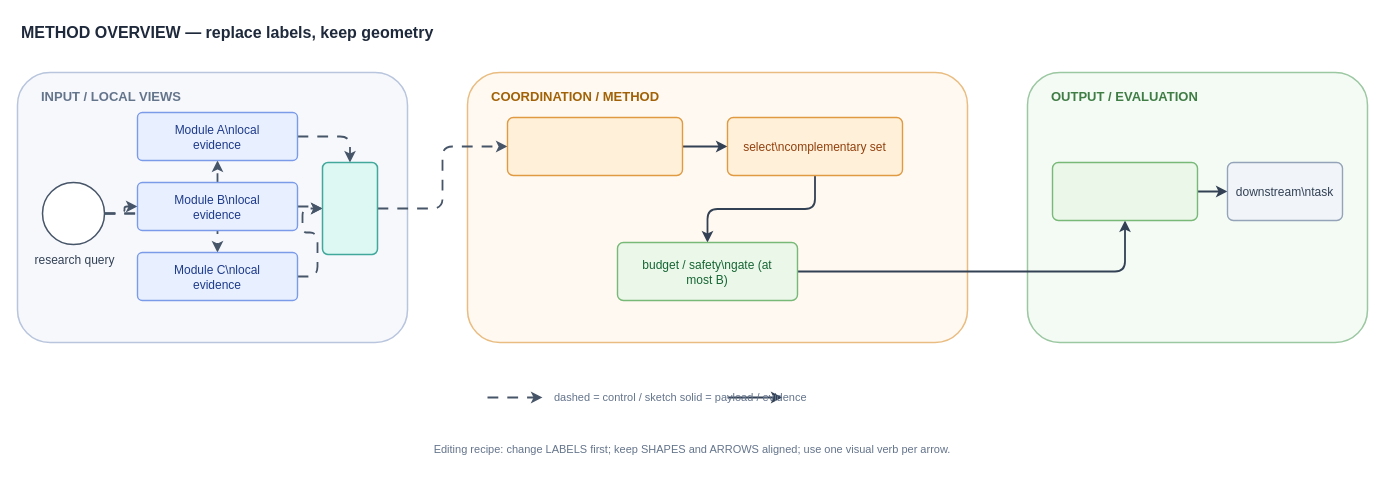
Some shapes in this 1386 by 478 pixel diagram are drawn without their labels. Each missing label, with the centre of its shape:
"CONTROL\nBUS" goes at (x=349, y=208).
"normalize\nshared signal" goes at (x=594, y=146).
"selected\npayloads" goes at (x=1124, y=191).
